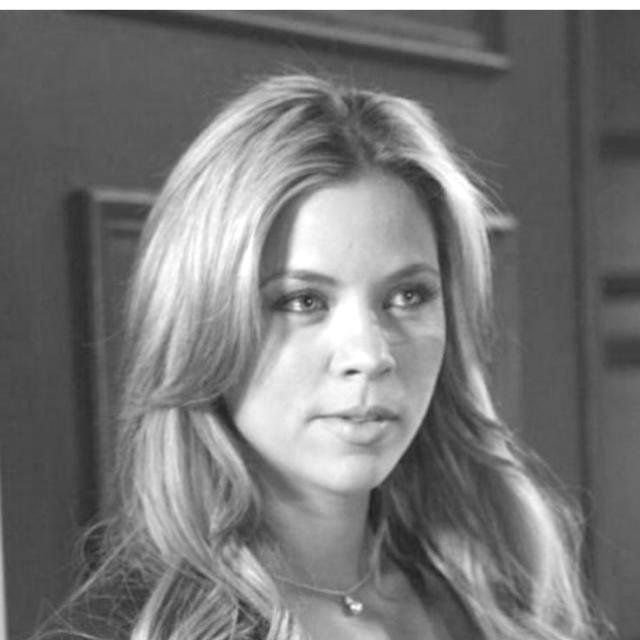real: (200, 108, 478, 528)
